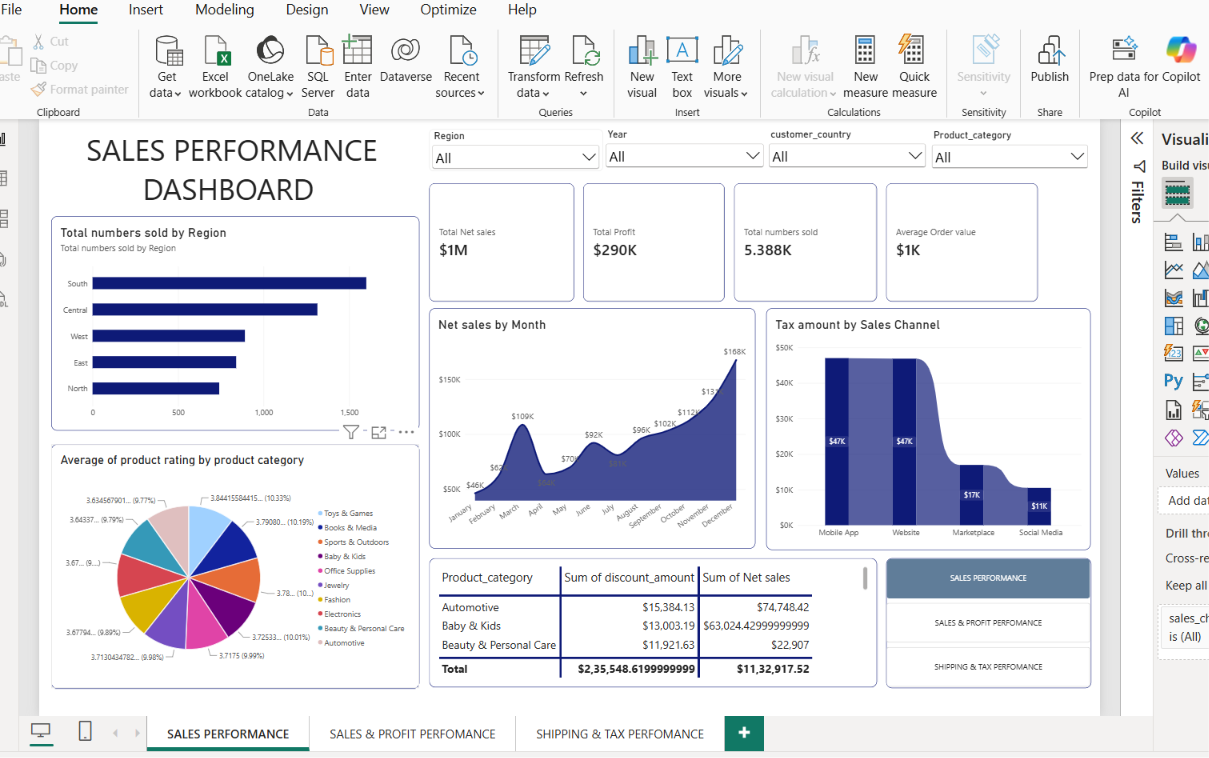

This screenshot's page, from the dashboard's own definition file:
{"tool":"powerbi","page":{"name":"SALES PERFORMANCE","canvas":[1920,1080],"ordinal":0},"visuals":[{"type":"ribbonChart","title":"Tax amount by Sales Channel","fields":{"Category":["sales_customer.sales_channel"],"Y":["Sum(sales_customer.tax_amount)"]},"box":[1315,342.5,587.5,437.5],"z":0},{"type":"slicer","fields":{"Values":["sales_customer.region"]},"box":[706,18,314,76],"z":1000},{"type":"slicer","fields":{"Values":["sales_customer.order_date.Variation.Date Hierarchy.Year"]},"box":[1020,16.2,295,76.2],"z":2000},{"type":"slicer","fields":{"Values":["customer.customer_country"]},"box":[1315,16.2,294,76],"z":3000},{"type":"slicer","fields":{"Values":["sales_customer.product_category"]},"box":[1610,17.5,292.5,75],"z":4000},{"type":"areaChart","title":"Net sales by Month","fields":{"Category":["sales_customer.order_date.Variation.Date Hierarchy.Month"],"Y":["Sum(sales_customer.Net sales)"]},"box":[705,342.5,590,435],"z":5000},{"type":"clusteredBarChart","title":"Total numbers sold   by Region","fields":{"Category":["sales_customer.Region"],"Y":["sales_customer.Total numbers sold"]},"box":[22,176,666,388],"z":6000},{"type":"textbox","box":[85,17.5,560,157.5],"z":9000},{"type":"pieChart","title":"Average of product rating by product category ","fields":{"Category":["product_catalog.product_category"],"Y":["Avg(product_catalog.product_rating)"]},"box":[22,588,666,442],"z":10000},{"type":"cardVisual","fields":{"Data":["sales_customer.Total Net sales"]},"box":[705,115,262,214],"z":11000},{"type":"cardVisual","fields":{"Data":["sales_customer.Total Profit"]},"box":[985,115,256,214],"z":12000},{"type":"cardVisual","fields":{"Data":["sales_customer.Total numbers sold"]},"box":[1257.5,115,258,214],"z":13000},{"type":"cardVisual","fields":{"Data":["sales_customer.Average Order value"]},"box":[1532.5,115,274,214],"z":14000},{"type":"tableEx","fields":{"Values":["sales_customer.product_category","Sum(sales_customer.discount_amount)","Sum(sales_customer.Net sales)"]},"box":[705.8,794.4,810.7,233.4],"z":15000},{"type":"pageNavigator","box":[1532.8,794.4,371,235.3],"z":15001}]}

Visuals, with their boxes on the page's 1920x1080 design canvas (x1, y1, x2, y2). These are canvas units, not pixel positions in the 1209x758 screenshot, which may show the page scaled, cropped or inside an application window:
"Tax amount by Sales Channel" ribbonChart: <box>1315,342,1902,780</box>
slicer - sales_customer.region: <box>706,18,1020,94</box>
slicer - sales_customer.order_date.Variation.Date Hierarchy.Year: <box>1020,16,1315,92</box>
slicer - customer.customer_country: <box>1315,16,1609,92</box>
slicer - sales_customer.product_category: <box>1610,18,1902,92</box>
"Net sales by Month" areaChart: <box>705,342,1295,778</box>
"Total numbers sold   by Region" clusteredBarChart: <box>22,176,688,564</box>
textbox: <box>85,18,645,175</box>
"Average of product rating by product category " pieChart: <box>22,588,688,1030</box>
cardVisual - sales_customer.Total Net sales: <box>705,115,967,329</box>
cardVisual - sales_customer.Total Profit: <box>985,115,1241,329</box>
cardVisual - sales_customer.Total numbers sold: <box>1258,115,1516,329</box>
cardVisual - sales_customer.Average Order value: <box>1532,115,1806,329</box>
tableEx - sales_customer.product_category x Sum(sales_customer.discount_amount): <box>706,794,1516,1028</box>
pageNavigator: <box>1533,794,1904,1030</box>
